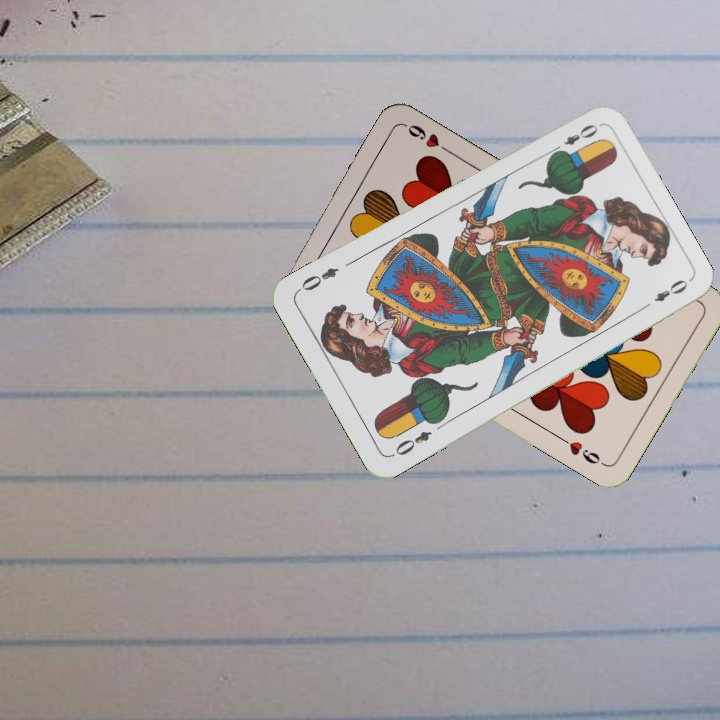EO: (547, 120, 601, 157), (387, 427, 435, 460)
